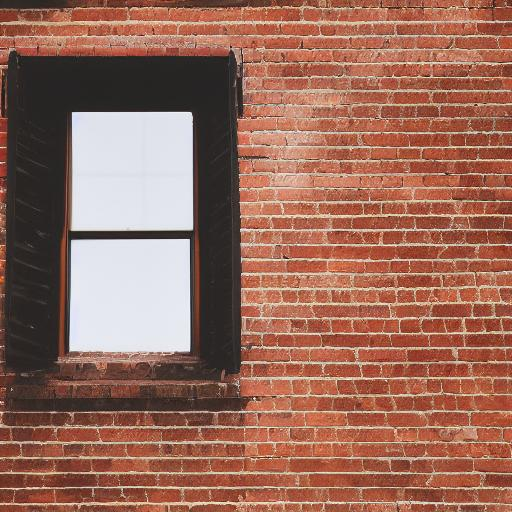Window: (8, 53, 246, 405)
